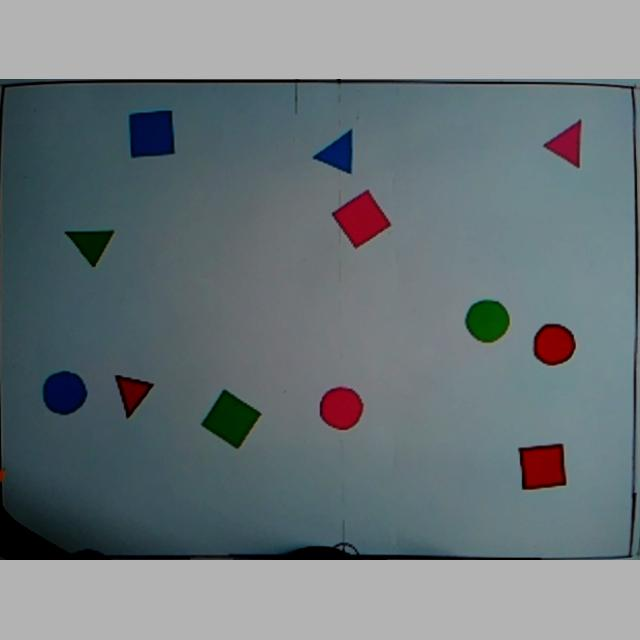blueCircle: (40, 372, 89, 418)
blueSquare: (128, 110, 176, 164)
blueTriangle: (311, 130, 355, 178)
greenCircle: (462, 297, 512, 348)
greenSquare: (202, 390, 262, 450)
greenTriangle: (62, 225, 118, 272)
pinkCircle: (320, 387, 364, 435)
pinkSquare: (332, 190, 392, 252)
pinkTriangle: (540, 118, 588, 172)
redCircle: (530, 324, 576, 368)
redSquare: (516, 444, 566, 496)
redTriangle: (110, 372, 156, 421)
